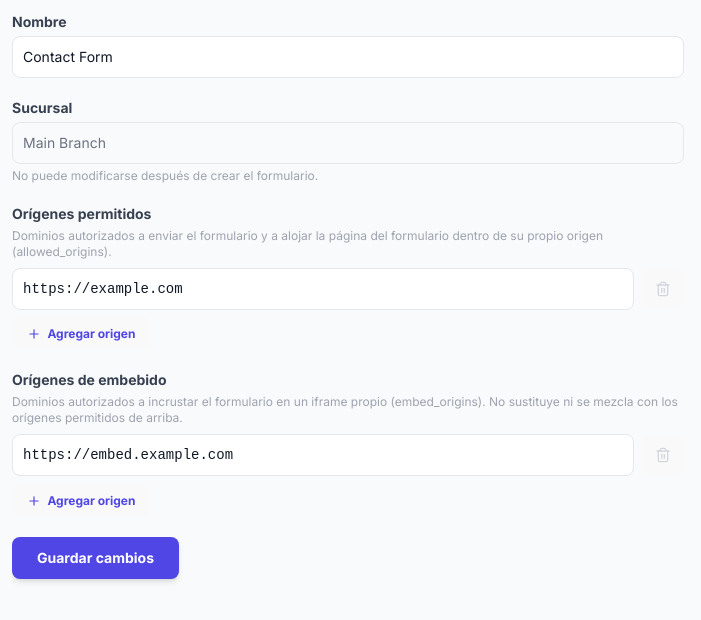
Test: GeneralTab — allowed_origins vs embed_origins are kept strictly distinct › rejects a wildcard in embed_origins client-side, without touching allowed_origins
This screenshot has width=701, height=620.
Replace the text in the field named "Orígenes de embebido 1" with "https://*.example.com": (323,455) [12,434,634,476]
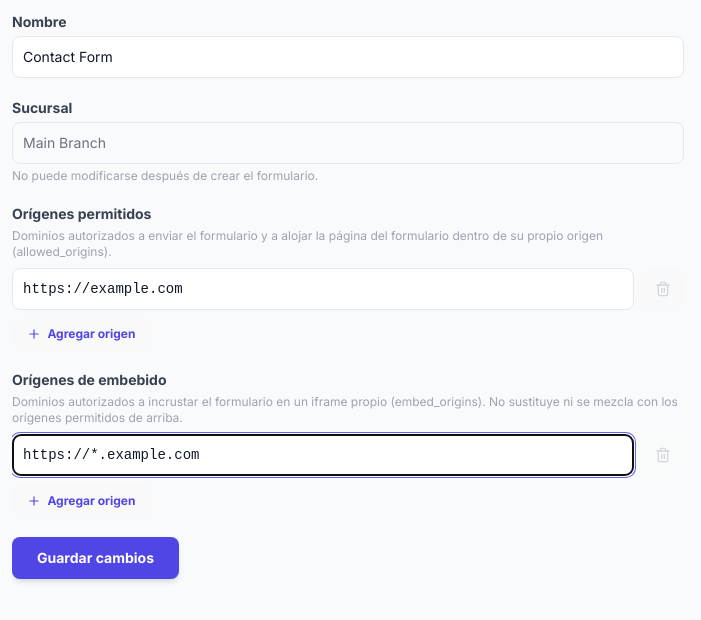
Click the button "Guardar cambios": (96,558) [12,537,179,579]
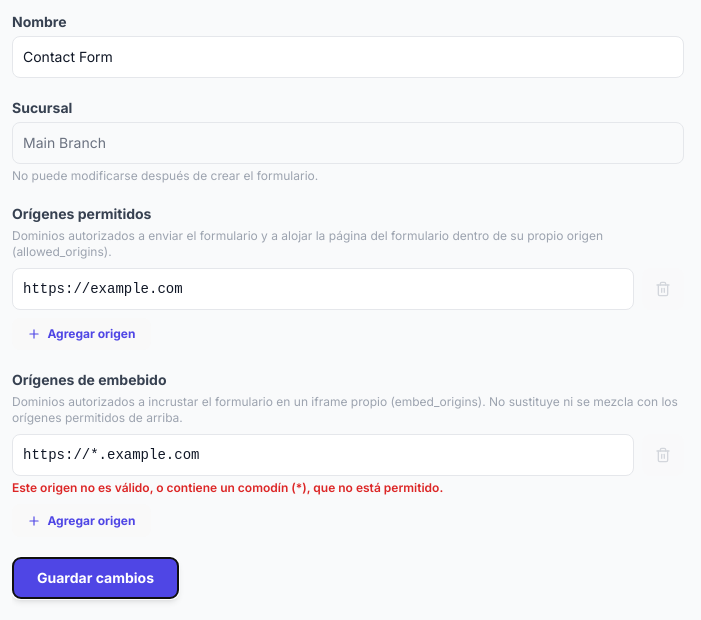
Now the text "comodín" is shown, box [12,480,443,495]
